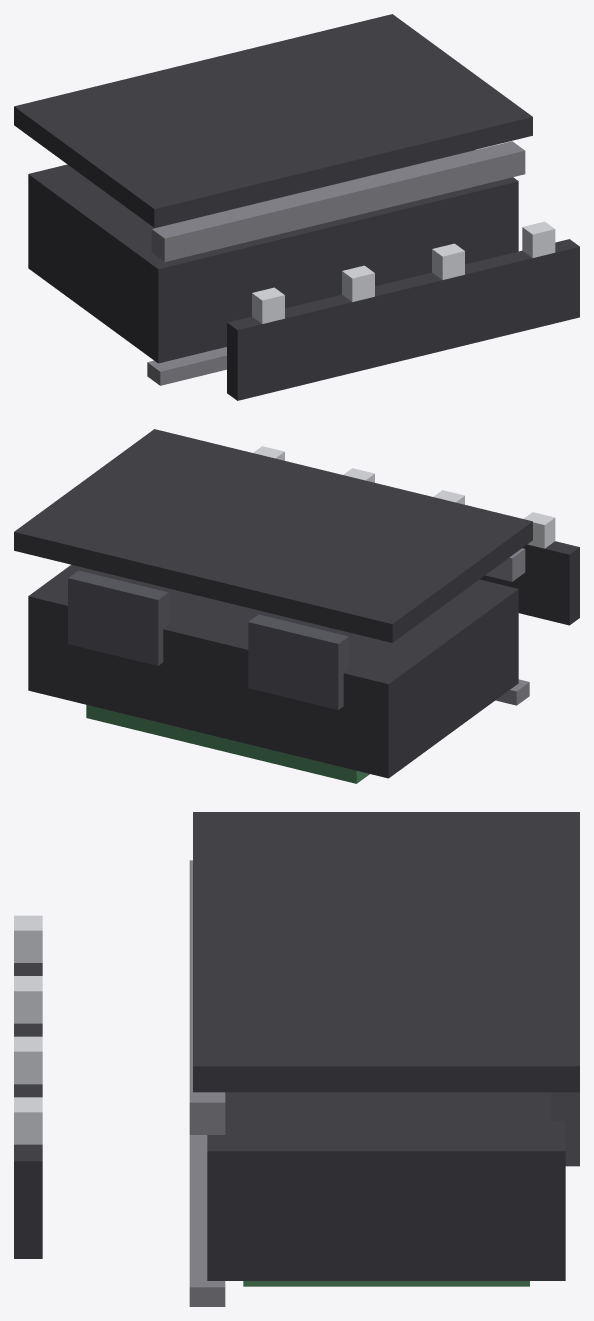
File: expansion_bay.gltf
3 renders of one model, top to bottom at view 1: azimuth 30°, elevation 25°; view 2: azimuth 150°, elevation 25°; view 3: azimuth 270°, elevation 25°, orthographic. The views are drawn at different scales.
Parts seen in each view (by area): view 1: expansion_bay; view 2: expansion_bay; view 3: expansion_bay.
Part boxes in pixels (left/top/right/bottom): expansion_bay: left=14, top=14, right=579, bottom=400; expansion_bay: left=14, top=429, right=579, bottom=783; expansion_bay: left=14, top=812, right=579, bottom=1306.
Size of the model in its own units: 0.084 by 0.0395 by 0.079.
